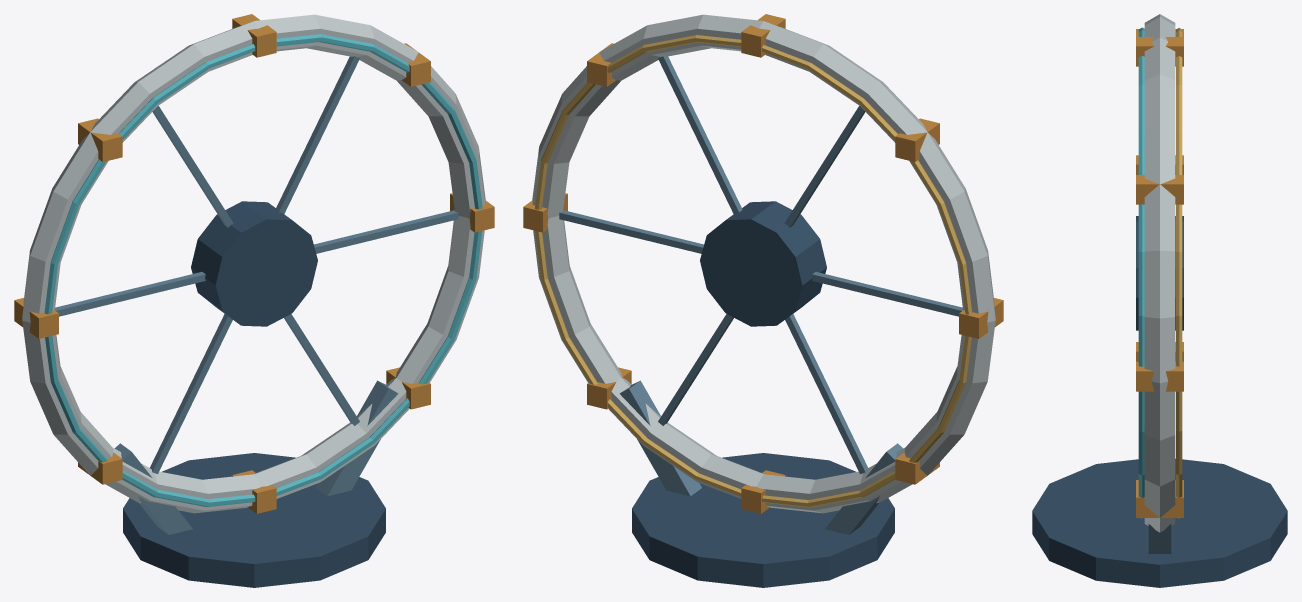
Rendered from SpaceStation_OrbitalRingBackdrop_Showcase.glb.
The picture shows the model from 3 angles, left to right: view 1: azimuth 30°, elevation 25°; view 2: azimuth 150°, elevation 25°; view 3: azimuth 270°, elevation 25°; orthographic projection. The views are drawn at different scales.
Visible parts, largest first — view 1: SpaceStation_OrbitalRingBackdrop_Showcase; view 2: SpaceStation_OrbitalRingBackdrop_Showcase; view 3: SpaceStation_OrbitalRingBackdrop_Showcase.
Boxes of the visible parts, x1,y1,x2,y2 form: SpaceStation_OrbitalRingBackdrop_Showcase: (14, 14, 494, 587); SpaceStation_OrbitalRingBackdrop_Showcase: (523, 14, 1003, 587); SpaceStation_OrbitalRingBackdrop_Showcase: (1032, 14, 1287, 587).
Bounding box in the file's own units: 16.3 × 17.15 × 8.
